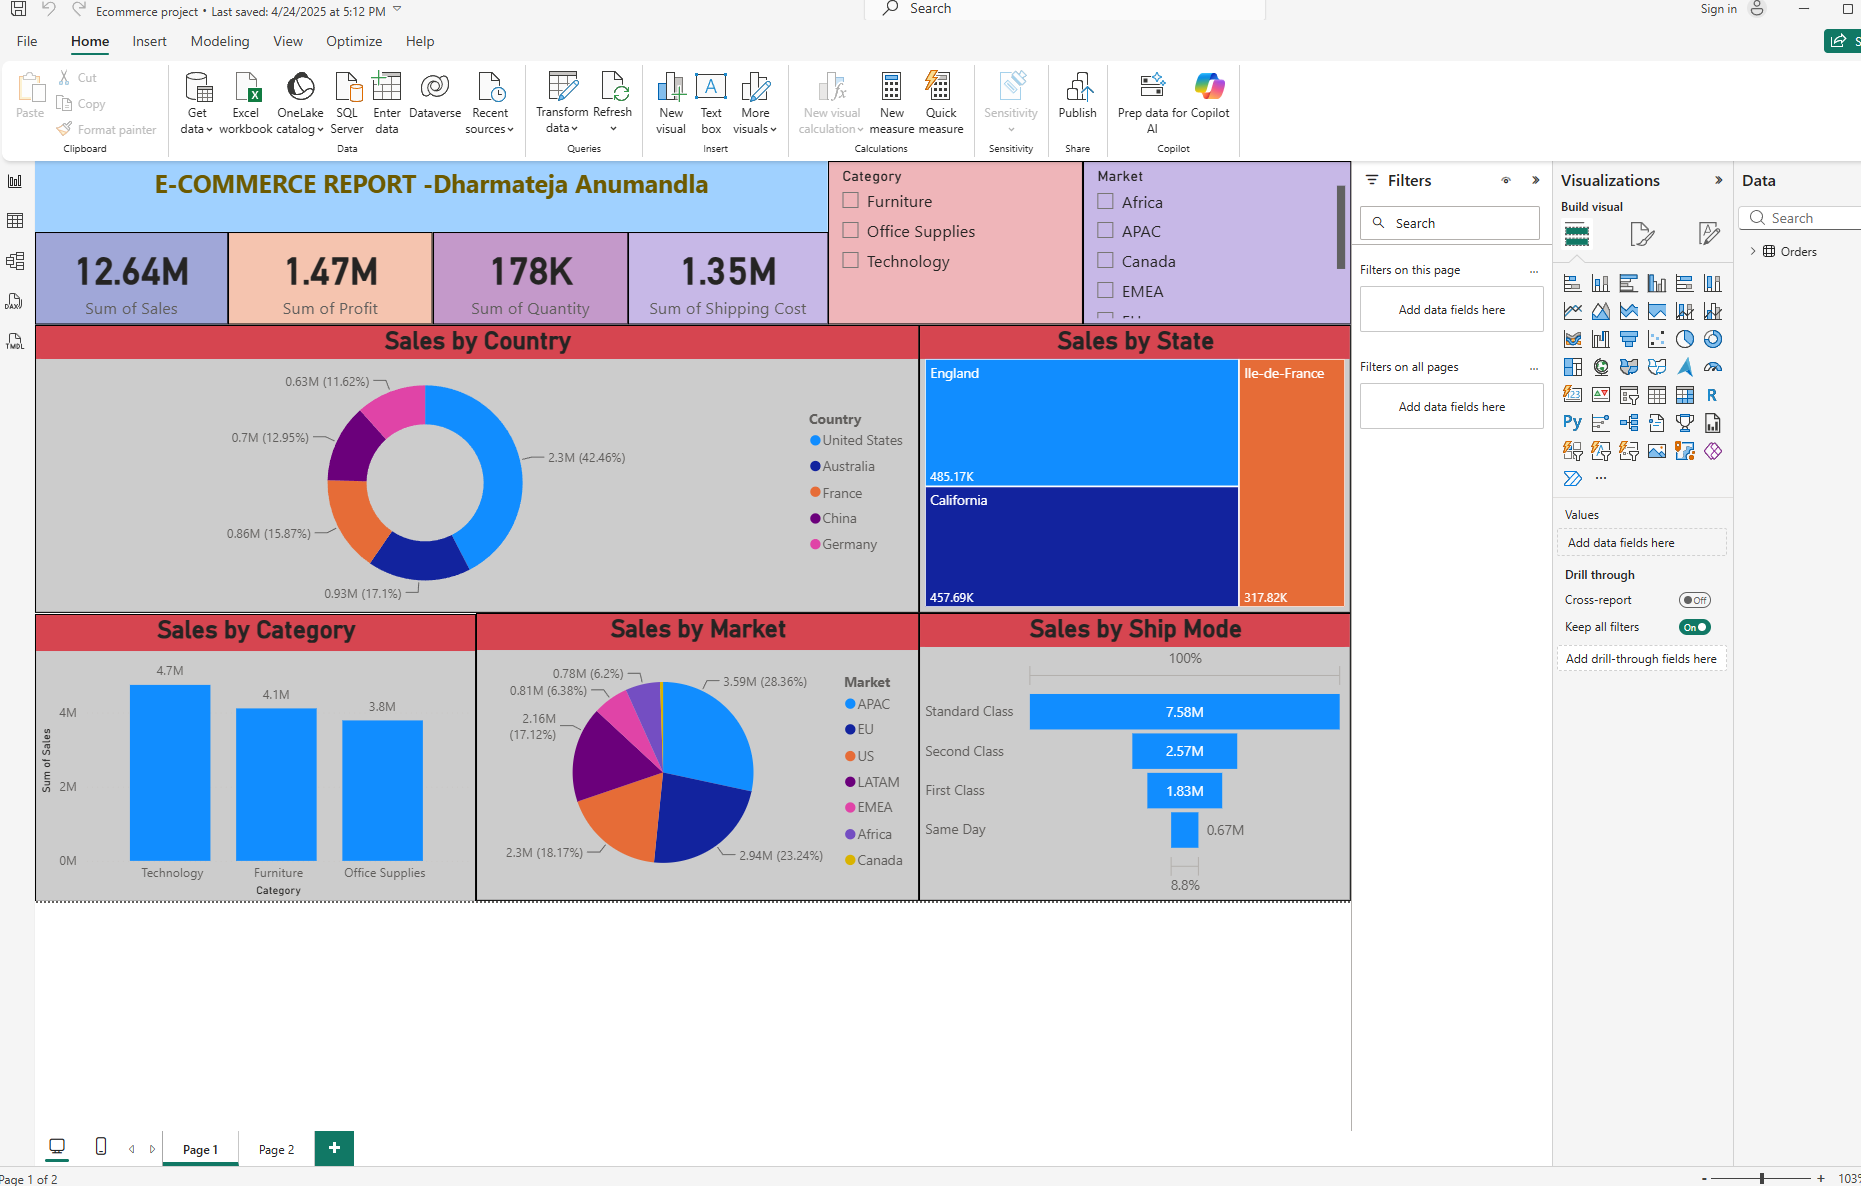

The dashboard page shown, as its layout file describes it:
{"tool":"powerbi","page":{"name":"Page 1","canvas":[1280,720],"ordinal":0},"visuals":[{"type":"columnChart","title":"Sales by Category","fields":{"Y":["Sum(Orders.Sales)"],"Category":["Orders.Category"]},"box":[0,440.6,428.9,280.1],"z":0},{"type":"pieChart","title":"Sales by Market","fields":{"Category":["Orders.Market"],"Y":["Sum(Orders.Sales)"]},"box":[428.9,439.6,430.9,280.1],"z":1000},{"type":"funnel","title":" Sales by Ship Mode","fields":{"Category":["Orders.Ship Mode"],"Y":["Sum(Orders.Sales)"]},"box":[859.8,439.6,420.2,280.1],"z":2000},{"type":"donutChart","title":" Sales by Country","fields":{"Category":["Orders.Country"],"Y":["Sum(Orders.Sales)"]},"box":[0,159.5,859.8,280.1],"z":3000},{"type":"treemap","title":" Sales by State","fields":{"Group":["Orders.State"],"Values":["Sum(Orders.Sales)"]},"box":[859.8,159.5,420.2,280.1],"z":4000},{"type":"card","fields":{"Values":["Sum(Orders.Sales)"]},"box":[0,69.1,187.7,90.5],"z":5000},{"type":"card","fields":{"Values":["Sum(Orders.Profit)"]},"box":[187.7,69.1,199.4,90.5],"z":6000},{"type":"card","fields":{"Values":["Sum(Orders.Quantity)"]},"box":[387.1,69.1,189.7,90.5],"z":7000},{"type":"card","fields":{"Values":["Sum(Orders.Shipping Cost)"]},"box":[576.8,69.1,194.5,90.5],"z":8000},{"type":"slicer","fields":{"Values":["Orders.Category"]},"box":[771.3,0,248,158.5],"z":9000},{"type":"slicer","fields":{"Values":["Orders.Market"]},"box":[1019.3,0,260.7,158.5],"z":10000},{"type":"textbox","box":[0,0,771.3,69.1],"z":11000}]}

Visuals, with their boxes on the page's 1280x720 design canvas (x1, y1, x2, y2). These are canvas units, not pixel positions in the 1861x1186 screenshot, which may show the page scaled, cropped or inside an application window:
"Sales by Category" columnChart: x1=0, y1=441, x2=429, y2=721
"Sales by Market" pieChart: x1=429, y1=440, x2=860, y2=720
" Sales by Ship Mode" funnel: x1=860, y1=440, x2=1280, y2=720
" Sales by Country" donutChart: x1=0, y1=160, x2=860, y2=440
" Sales by State" treemap: x1=860, y1=160, x2=1280, y2=440
card - Sum(Orders.Sales): x1=0, y1=69, x2=188, y2=160
card - Sum(Orders.Profit): x1=188, y1=69, x2=387, y2=160
card - Sum(Orders.Quantity): x1=387, y1=69, x2=577, y2=160
card - Sum(Orders.Shipping Cost): x1=577, y1=69, x2=771, y2=160
slicer - Orders.Category: x1=771, y1=0, x2=1019, y2=158
slicer - Orders.Market: x1=1019, y1=0, x2=1280, y2=158
textbox: x1=0, y1=0, x2=771, y2=69
